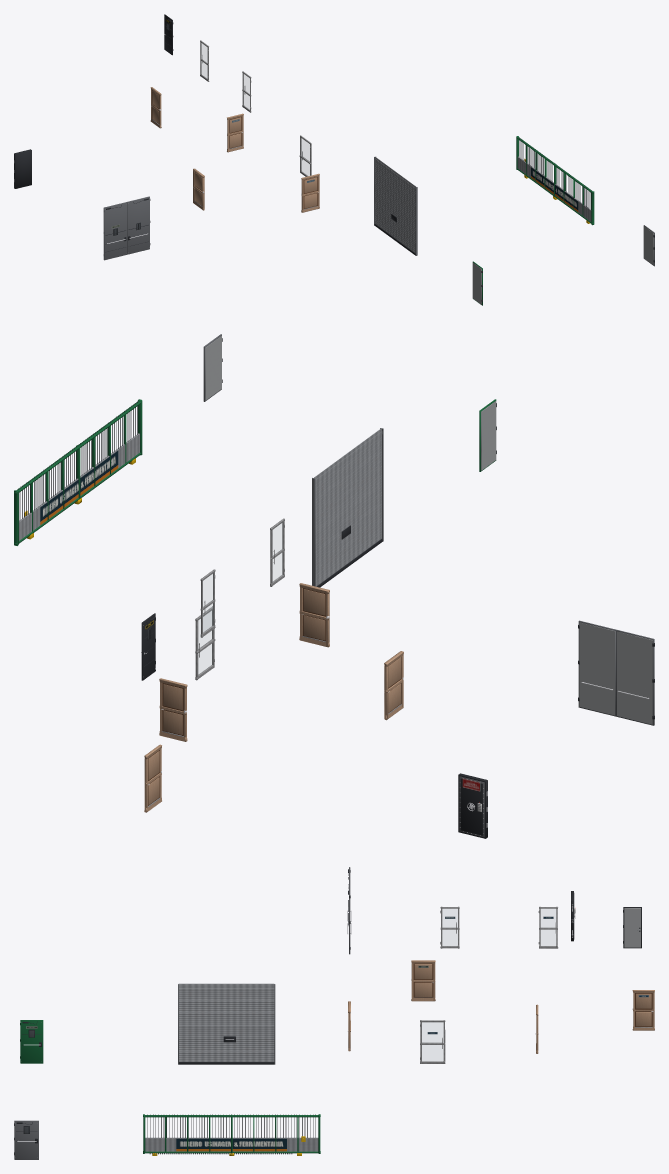
File: farm_armas_dinamicos.glb
3 renders of one model, top to bottom at view 1: azimuth 30°, elevation 25°; view 2: azimuth 150°, elevation 25°; view 3: azimuth 270°, elevation 25°, orthographic. The views are drawn at different scales.
Visible parts, largest first — view 1: FA_Portao_Doca, FA_Portao_Correr, FA_Porta_Expedicao_E, FA_Porta_Expedicao_D, FA_Porta_Escritorio, FA_Porta_Blindada, FA_Porta_Banheiro, FA_Porta_Entrada, FA_Porta_Deposito; view 2: FA_Portao_Doca, FA_Portao_Correr, FA_Porta_Expedicao_D, FA_Porta_Expedicao_E, FA_Porta_Blindada, FA_Porta_Escritorio, FA_Porta_Banheiro, FA_Porta_Deposito, FA_Porta_Manutencao, FA_Porta_Entrada, FA_Porta_Pedestre, FA_Porta_Copa (+3 smaller); view 3: FA_Portao_Doca, FA_Portao_Correr, FA_Porta_Entrada, FA_Porta_Manutencao, FA_Porta_Deposito, FA_Porta_Pedestre, FA_Porta_Copa, FA_Porta_Diretoria, FA_Porta_Reuniao, FA_Porta_CFTV.
Boxes of the visible parts, x1,y1,x2,y2 form: FA_Portao_Doca: (374,156,417,255); FA_Portao_Correr: (516,136,594,225); FA_Porta_Expedicao_E: (103,202,126,260); FA_Porta_Expedicao_D: (127,196,150,254); FA_Porta_Escritorio: (301,173,319,212); FA_Porta_Blindada: (14,149,31,188); FA_Porta_Banheiro: (227,113,243,152); FA_Porta_Entrada: (299,135,311,176); FA_Porta_Deposito: (193,168,204,210); FA_Portao_Doca: (312,428,383,587); FA_Portao_Correr: (14,399,142,545); FA_Porta_Expedicao_D: (578,620,616,716); FA_Porta_Expedicao_E: (616,630,654,725); FA_Porta_Blindada: (458,773,487,838); FA_Porta_Escritorio: (299,583,329,647); FA_Porta_Banheiro: (159,678,187,741); FA_Porta_Deposito: (384,651,403,720); FA_Porta_Manutencao: (479,399,496,471); FA_Porta_Entrada: (195,606,215,680); FA_Porta_Pedestre: (203,334,222,401); FA_Porta_Copa: (144,744,161,812); FA_Portao_Doca: (178,983,275,1064); FA_Portao_Correr: (143,1114,320,1155); FA_Porta_Entrada: (420,1020,445,1063); FA_Porta_Manutencao: (20,1020,43,1063); FA_Porta_Deposito: (411,960,435,1001); FA_Porta_Pedestre: (14,1120,38,1159); FA_Porta_Copa: (632,990,654,1030); FA_Porta_Diretoria: (440,906,459,948); FA_Porta_Reuniao: (538,906,558,948); FA_Porta_CFTV: (623,907,641,948).
Bounding box in the file's own units: 26.82 × 6.89 × 31.27.
Materials: 16 (14 with a texture image).
